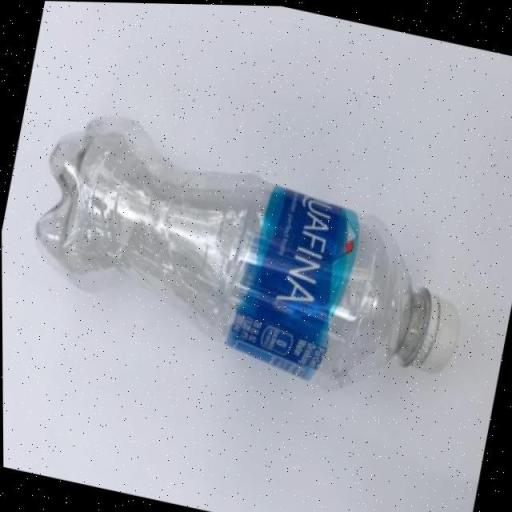plastic: (12, 100, 494, 419)
